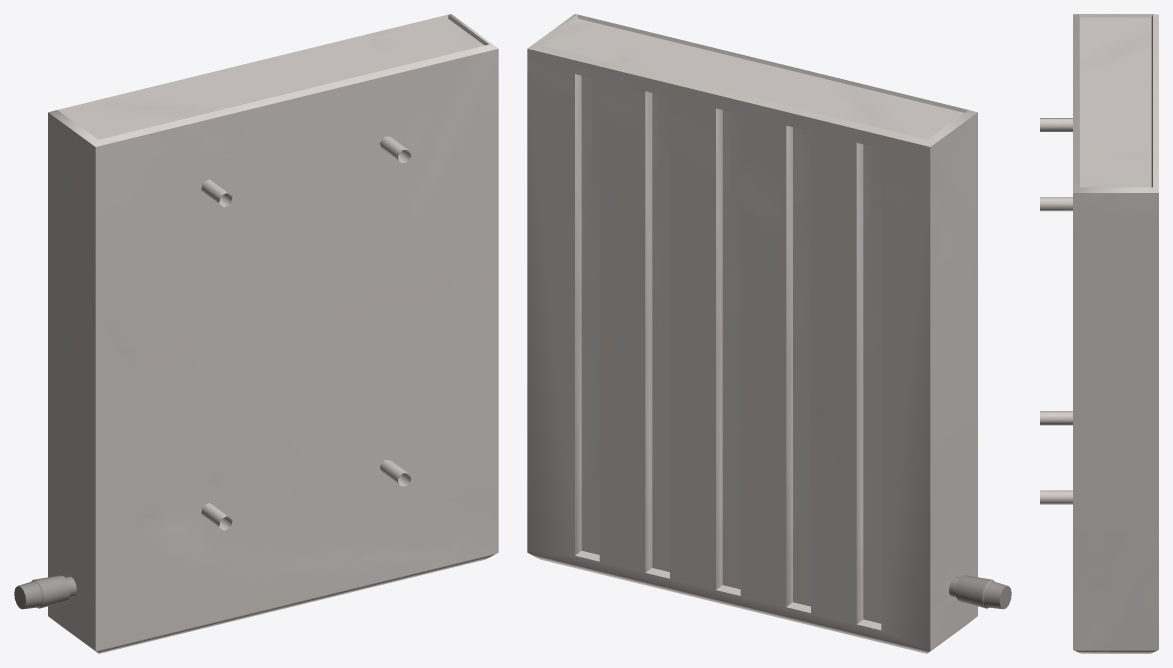
Rendered from radiator_2.fbx.
3 views of the same model, side by side, from view 1: azimuth 30°, elevation 25°; view 2: azimuth 150°, elevation 25°; view 3: azimuth 270°, elevation 25° (orthographic). The views are drawn at different scales.
Visible parts, largest first — view 1: polySurface1047; view 2: polySurface1047; view 3: polySurface1047.
Boxes of the visible parts, bbox=[...] form: polySurface1047: bbox=[14, 14, 498, 653]; polySurface1047: bbox=[527, 14, 1011, 653]; polySurface1047: bbox=[1040, 14, 1158, 653].
Size of the model in its own units: 55.41 by 60 by 13.81.
Materials: 1 (1 with a texture image).
